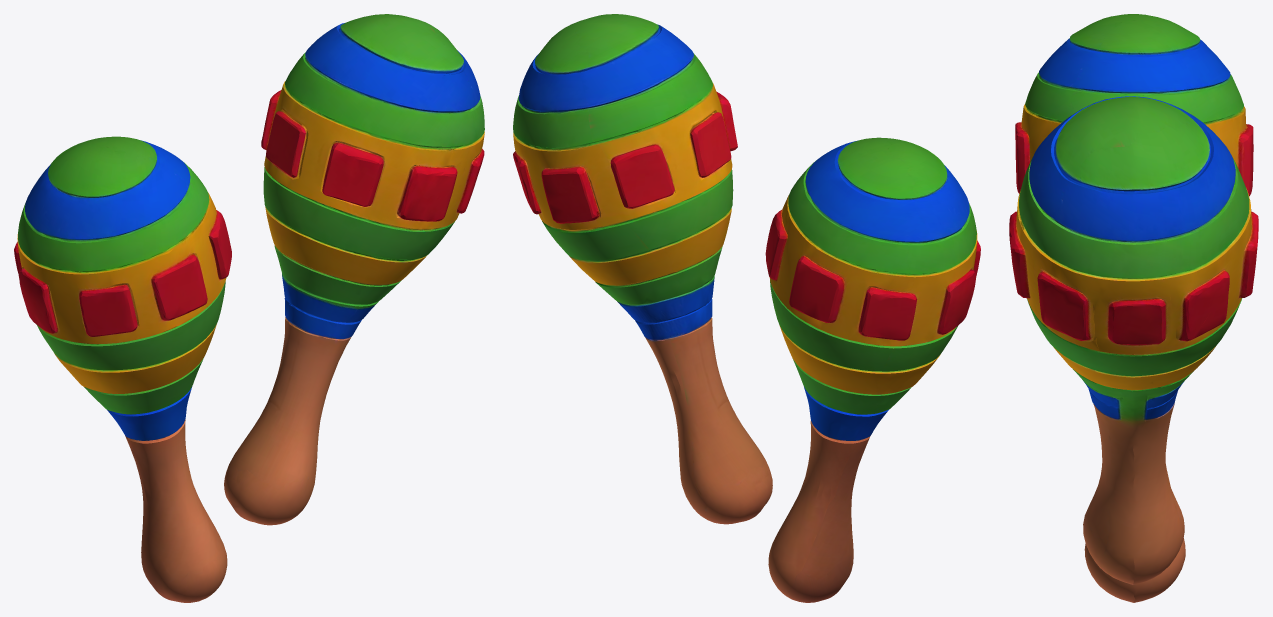
Rendered from maracas.glb.
3 renders of one model, left to right at view 1: azimuth 30°, elevation 25°; view 2: azimuth 150°, elevation 25°; view 3: azimuth 270°, elevation 25°, orthographic. The views are drawn at different scales.
Visible parts, largest first — view 1: model; view 2: model; view 3: model.
Part boxes in pixels (x1,y1,x2,y2): model: [14, 14, 484, 602]; model: [513, 14, 980, 602]; model: [1009, 14, 1258, 602].
Bounding box in the file's own units: 0.8701 × 1 × 0.3772.
1 material, 1 textured.
